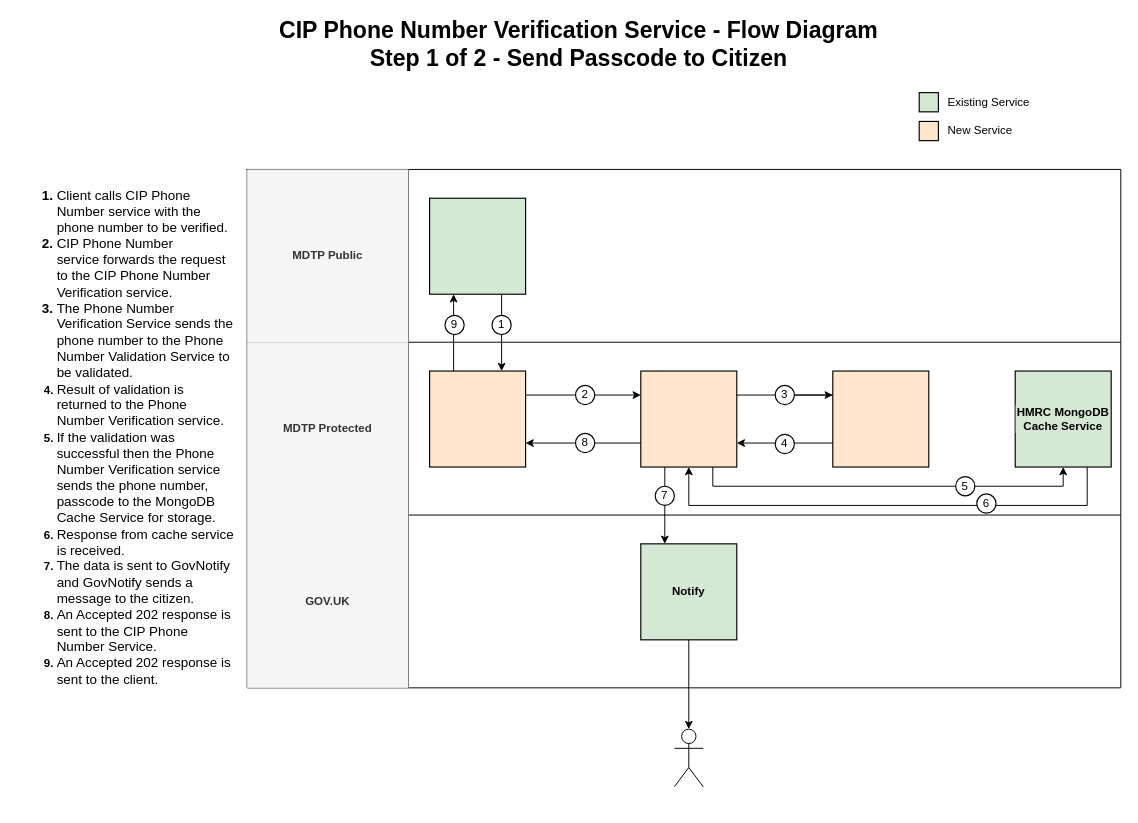
Image size: 1138x823. Some labels were removed from this diagram. Here are the shapes that lost their labels. From the top down, the centre of each, then its label:
At pixel 477 245: "Client".
At pixel 477 418: "CIP Phone Number Service".
At pixel 688 418: "CIP Phone Number Verification Service".
At pixel 880 418: "CIP Phone Number Validation Service".
At pixel 688 757: "Citizen".
